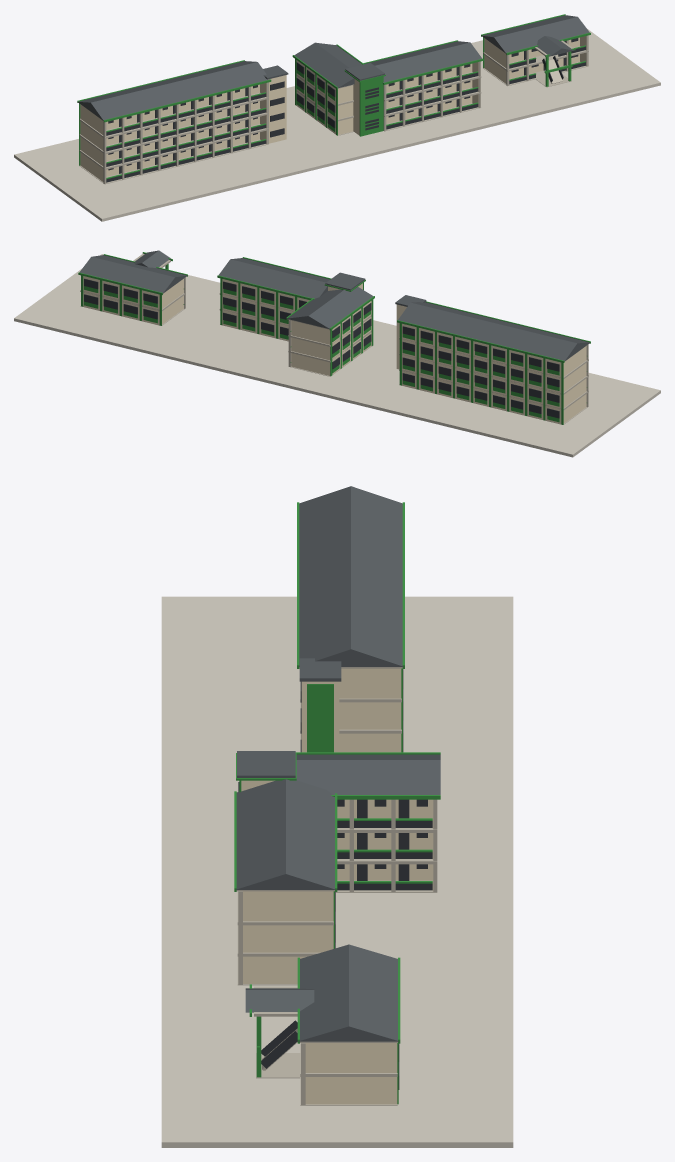
Rendered from ph-school-buildings.glb.
The picture shows the model from 3 angles, top to bottom: view 1: azimuth 30°, elevation 25°; view 2: azimuth 150°, elevation 25°; view 3: azimuth 270°, elevation 25°; orthographic projection. The views are drawn at different scales.
Visible parts, largest first — view 1: ground_plane, A_roof, A_wing, B_roofA, C_roof, B_roofB, B_wingB, B_wingA, B_tower_panel_green, A_wing_L3_wall_corridor, A_stair_shaft, A_wing_L0_wall_corridor (+29 smaller); view 2: ground_plane, A_wing, A_roof, B_wingA, B_roofA, C_roof, B_roofB, C_wing, B_wingB, A_wing_L2_wall_back, A_wing_L1_wall_back, A_wing_L0_wall_back (+17 smaller); view 3: ground_plane, A_roof, B_roofA, C_roof, B_roofB, B_wingB, B_wingA_L2_wall_endR, C_wing_L1_wall_endR, C_wing_L0_wall_endR, B_wingA_L1_wall_endR, A_wing_L3_wall_endR, A_stair_panel_green (+10 smaller).
Boxes of the visible parts, left/top/right/bottom form: ground_plane: left=14, top=29, right=660, bottom=221; A_roof: left=78, top=61, right=269, bottom=120; A_wing: left=79, top=82, right=268, bottom=183; B_roofA: left=364, top=41, right=481, bottom=82; C_roof: left=482, top=15, right=589, bottom=53; B_roofB: left=294, top=42, right=362, bottom=88; B_wingB: left=296, top=62, right=337, bottom=135; B_wingA: left=383, top=61, right=480, bottom=130; B_tower_panel_green: left=359, top=76, right=383, bottom=136; A_wing_L3_wall_corridor: left=98, top=84, right=259, bottom=130; A_stair_shaft: left=268, top=75, right=286, bottom=143; A_wing_L0_wall_corridor: left=98, top=132, right=259, bottom=178; ground_plane: left=14, top=254, right=660, bottom=457; A_wing: left=402, top=326, right=588, bottom=424; A_roof: left=398, top=302, right=590, bottom=361; B_wingA: left=223, top=281, right=306, bottom=339; B_roofA: left=218, top=258, right=329, bottom=298; C_roof: left=79, top=255, right=187, bottom=293; B_roofB: left=287, top=287, right=373, bottom=328; C_wing: left=84, top=277, right=185, bottom=325; B_wingB: left=288, top=299, right=373, bottom=373; A_wing_L2_wall_back: left=402, top=339, right=561, bottom=392; A_wing_L1_wall_back: left=402, top=354, right=561, bottom=408; A_wing_L0_wall_back: left=402, top=370, right=561, bottom=423; ground_plane: left=161, top=596, right=513, bottom=1147; A_roof: left=298, top=486, right=403, bottom=666; B_roofA: left=235, top=779, right=335, bottom=889; C_roof: left=298, top=944, right=399, bottom=1041; B_roofB: left=296, top=754, right=440, bottom=794; B_wingB: left=337, top=799, right=437, bottom=891; B_wingA_L2_wall_endR: left=243, top=891, right=333, bottom=921; C_wing_L1_wall_endR: left=305, top=1043, right=396, bottom=1072; C_wing_L0_wall_endR: left=305, top=1077, right=396, bottom=1104; B_wingA_L1_wall_endR: left=243, top=925, right=333, bottom=952; A_wing_L3_wall_endR: left=339, top=668, right=401, bottom=698; A_stair_panel_green: left=307, top=684, right=333, bottom=752.
Size of the model in its own units: 124 by 16.02 by 33.76.
